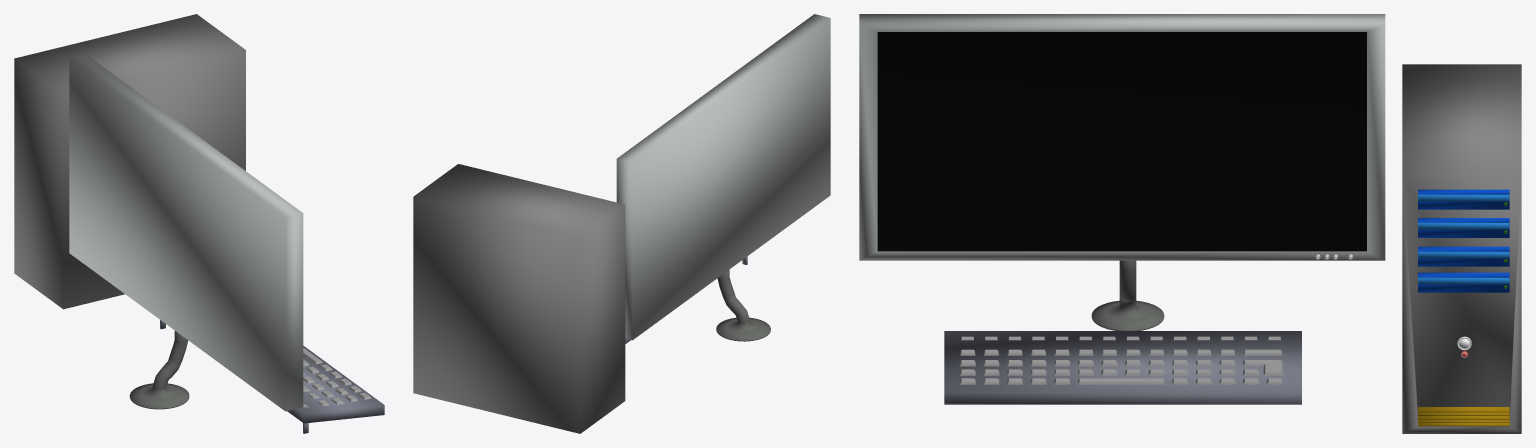
Rendered from pc_escritorio.glb.
The picture shows the model from 3 angles, left to right: view 1: azimuth 30°, elevation 25°; view 2: azimuth 150°, elevation 25°; view 3: azimuth 270°, elevation 25°; orthographic projection. The views are drawn at different scales.
Visible parts, largest first — view 1: pantalla, carcasa_cpu, soporte_teclado, soporte, teclas; view 2: carcasa_cpu, pantalla, soporte; view 3: pantalla, carcasa_cpu, soporte_teclado, teclas, soporte.
Boxes of the visible parts, <box> form: pantalla: <box>69,54,303,411</box>; carcasa_cpu: <box>14,14,245,309</box>; soporte_teclado: <box>160,320,384,433</box>; soporte: <box>129,331,189,409</box>; teclas: <box>303,348,371,407</box>; carcasa_cpu: <box>413,164,625,433</box>; pantalla: <box>616,14,830,340</box>; soporte: <box>716,269,770,341</box>; pantalla: <box>859,14,1385,260</box>; carcasa_cpu: <box>1402,64,1521,433</box>; soporte_teclado: <box>944,331,1301,404</box>; teclas: <box>959,336,1282,384</box>; soporte: <box>1091,260,1164,330</box>.
Bounding box in the file's own units: 0.7461 × 0.807 × 1.55.
